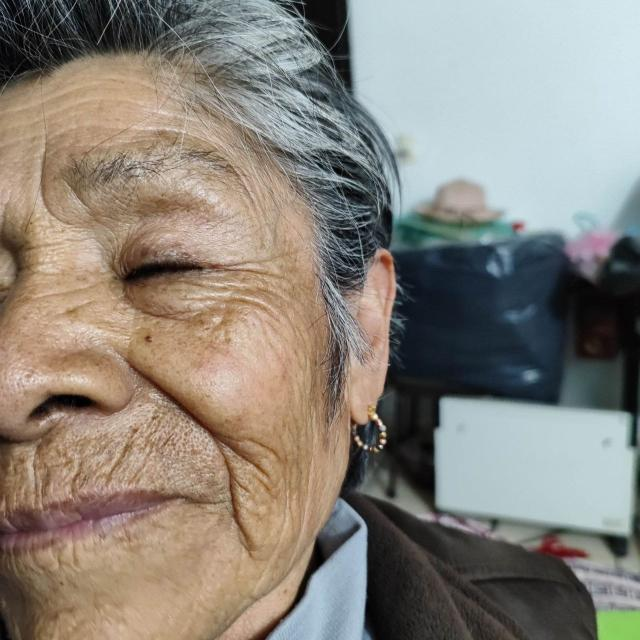ear: (346, 249, 396, 424)
